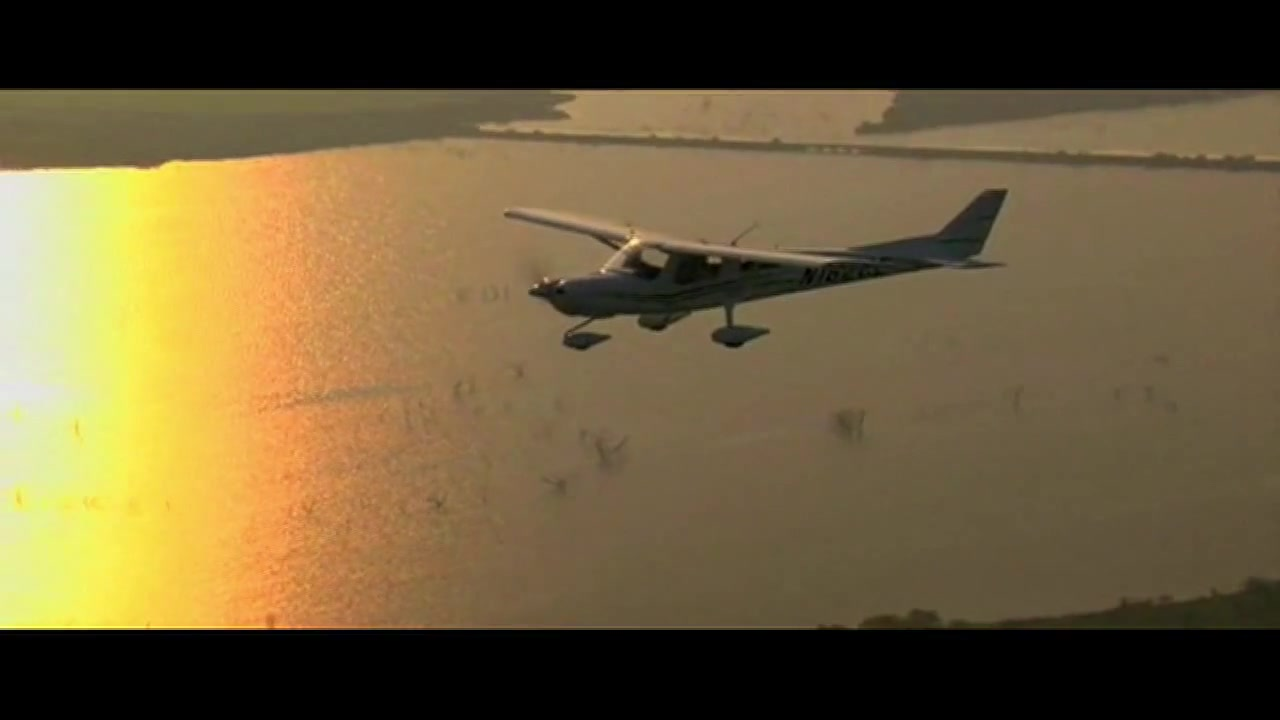aeroplane: (503, 190, 1011, 354)
